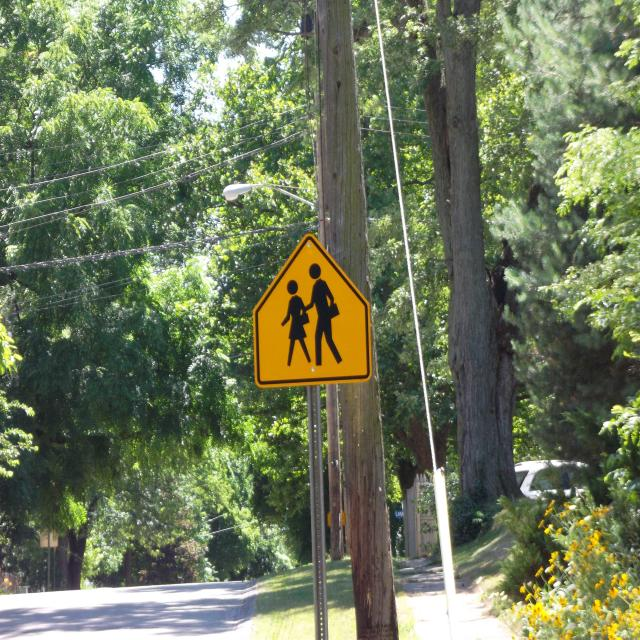warning: (254, 228, 372, 396)
